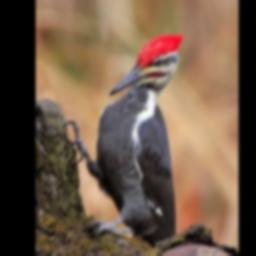Woodpecker: (61, 32, 183, 246)
